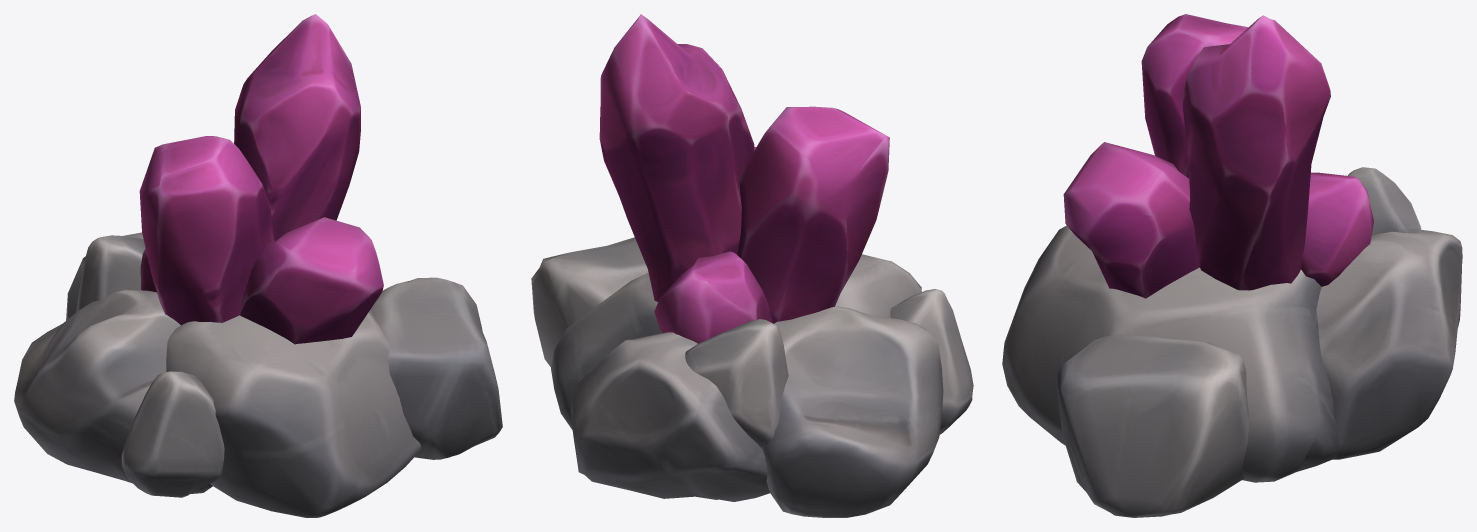
Rendered from resource_rock_2.glb.
The picture shows the model from 3 angles, left to right: view 1: azimuth 30°, elevation 25°; view 2: azimuth 150°, elevation 25°; view 3: azimuth 270°, elevation 25°; orthographic projection. The views are drawn at different scales.
Parts seen in each view (by area): view 1: Cube.002_Retopology.004_Material_0; view 2: Cube.002_Retopology.004_Material_0; view 3: Cube.002_Retopology.004_Material_0.
Boxes of the visible parts, x1=… form: Cube.002_Retopology.004_Material_0: x1=14, y1=14, x2=502, y2=517; Cube.002_Retopology.004_Material_0: x1=531, y1=14, x2=973, y2=517; Cube.002_Retopology.004_Material_0: x1=1002, y1=14, x2=1462, y2=517.
Bounding box in the file's own units: 2.53 × 2.39 × 2.21.
1 material, 1 textured.
